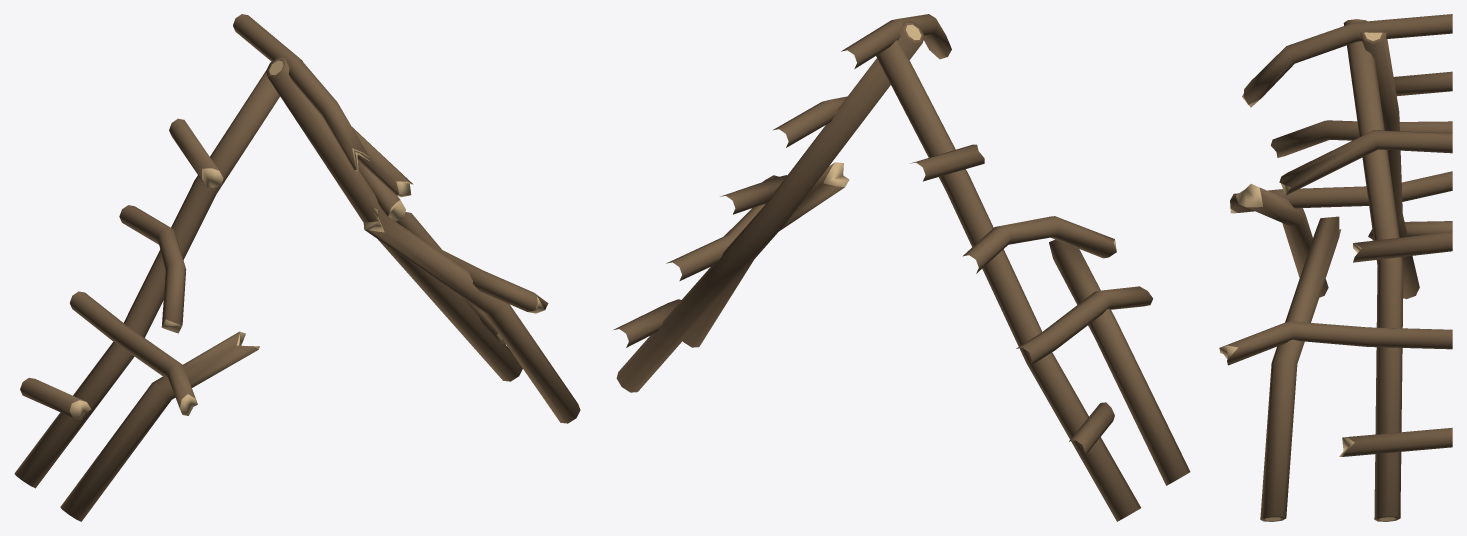
Rendered from rpgpp_av_roof_support_01_6x5x3_c.gltf.
3 renders of one model, left to right at view 1: azimuth 30°, elevation 25°; view 2: azimuth 150°, elevation 25°; view 3: azimuth 270°, elevation 25°, orthographic. The views are drawn at different scales.
Parts seen in each view (by area): view 1: rpgpp_av_roof_support_01_6x5x3_c; view 2: rpgpp_av_roof_support_01_6x5x3_c; view 3: rpgpp_av_roof_support_01_6x5x3_c.
Part boxes in pixels (x1,y1,x2,y2): rpgpp_av_roof_support_01_6x5x3_c: [14, 14, 580, 521]; rpgpp_av_roof_support_01_6x5x3_c: [613, 14, 1190, 521]; rpgpp_av_roof_support_01_6x5x3_c: [1219, 14, 1452, 521].
Size of the model in its own units: 0.0698 by 0.0537 by 0.0286.
Materials: 1 (1 with a texture image).
